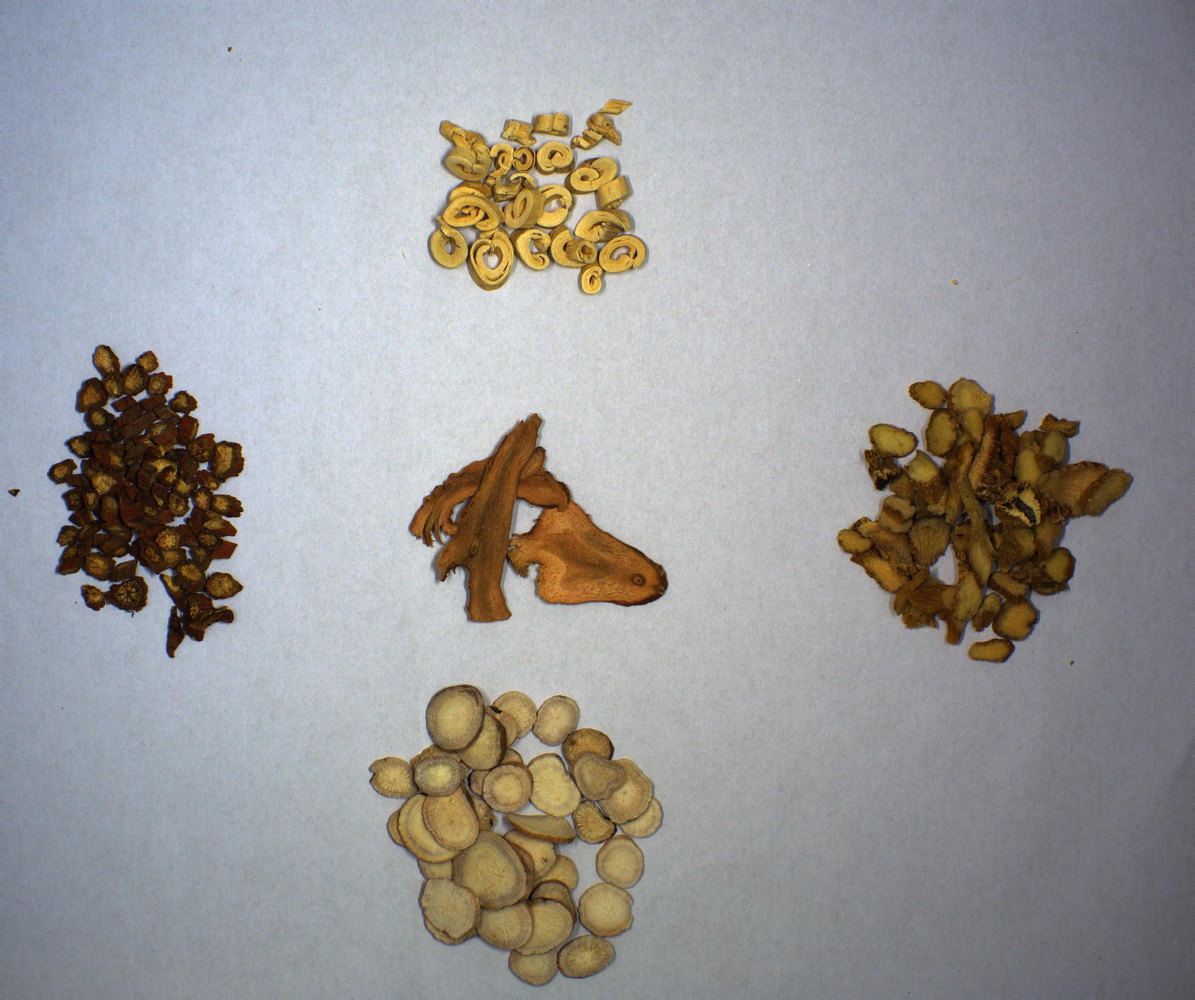baishao: (369, 683, 666, 988)
baixianpi: (429, 95, 651, 295)
danshen: (48, 344, 247, 659)
gaoliangjiang: (407, 412, 670, 626)
yuzhu: (837, 375, 1137, 667)
